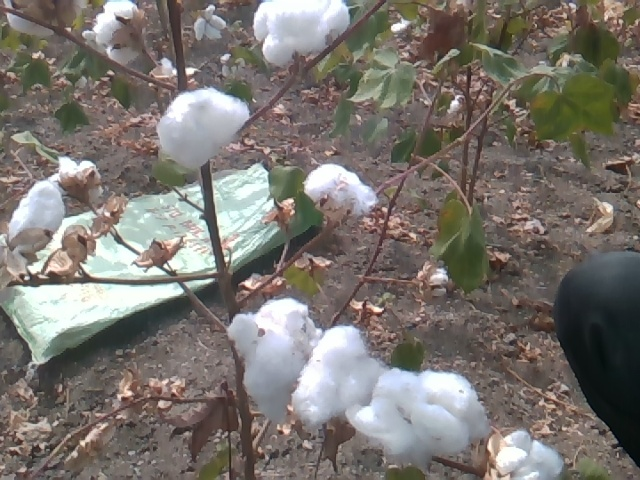cotton: (222, 300, 385, 449), (356, 366, 487, 471), (152, 85, 252, 167), (252, 1, 356, 67), (3, 178, 60, 283), (300, 160, 382, 225), (87, 1, 158, 68), (482, 427, 565, 478), (55, 151, 107, 217), (418, 261, 457, 304), (187, 4, 229, 42)
